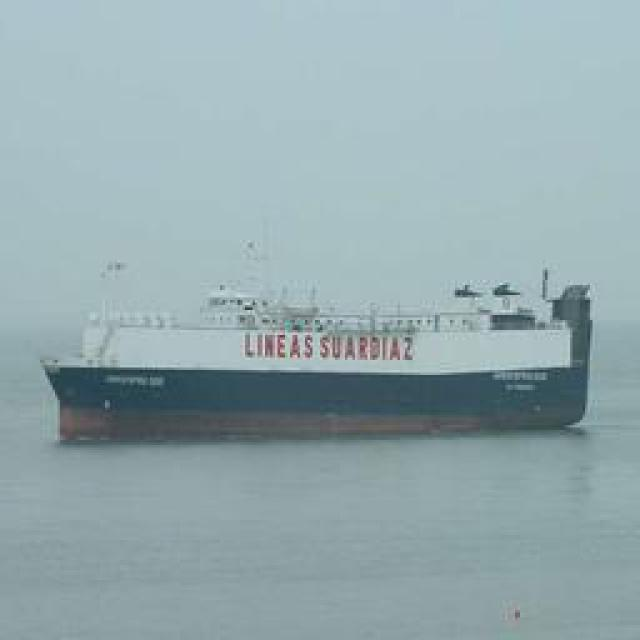Ship: (46, 270, 586, 430)
